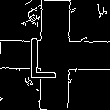L_N: (39, 29, 71, 81)
